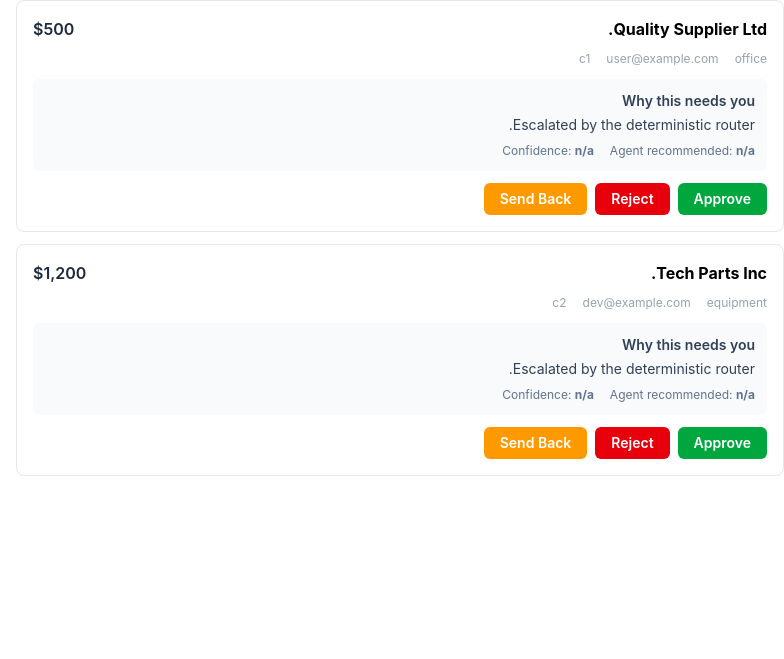
Scenario: ApproverQueue › opens a request form instead of sending an empty send-back (F5)
Expected: the text "Quality Supplier Ltd." is shown, [608,17,767,41]
What coordinates should you click on to do the following:
click the button "Send Back" below "Quality Supplier Ltd."
I would click on:
 (536, 199)
Its box is [484,183,587,215].
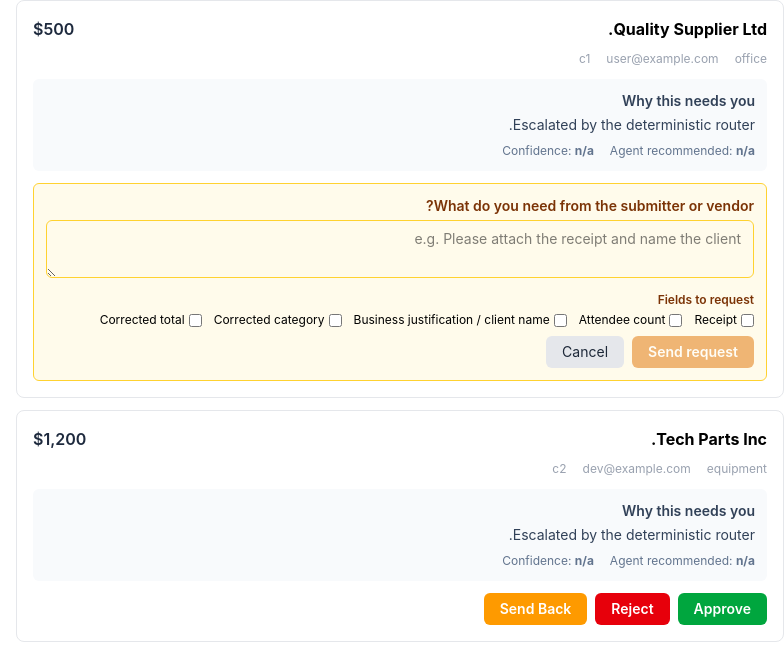
Now the text box labelled "What do you need from the submitter or vendor?" is shown, box [46,220,754,278]
Now the button "Send request" is disabled, box [632,336,754,368]
